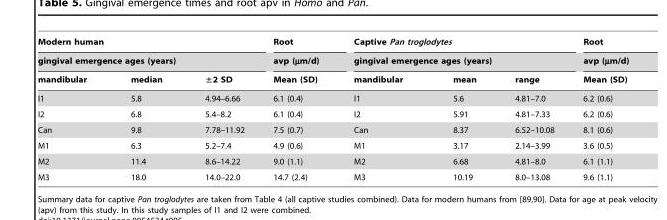table: (37, 37, 628, 181)
table column: (335, 37, 427, 181), (258, 37, 335, 181), (108, 37, 183, 181), (183, 37, 258, 181), (494, 37, 568, 181), (37, 37, 108, 181), (427, 37, 494, 181), (568, 37, 628, 181)
table column header: (37, 37, 628, 88)
table row: (37, 50, 628, 69), (37, 69, 628, 88), (37, 88, 628, 106), (37, 121, 628, 137), (37, 137, 628, 153), (37, 153, 628, 169), (37, 106, 628, 121), (37, 37, 628, 50), (37, 169, 628, 181)
table spanning cell: (335, 37, 568, 69), (37, 37, 258, 69), (258, 37, 335, 88), (568, 37, 628, 88)
